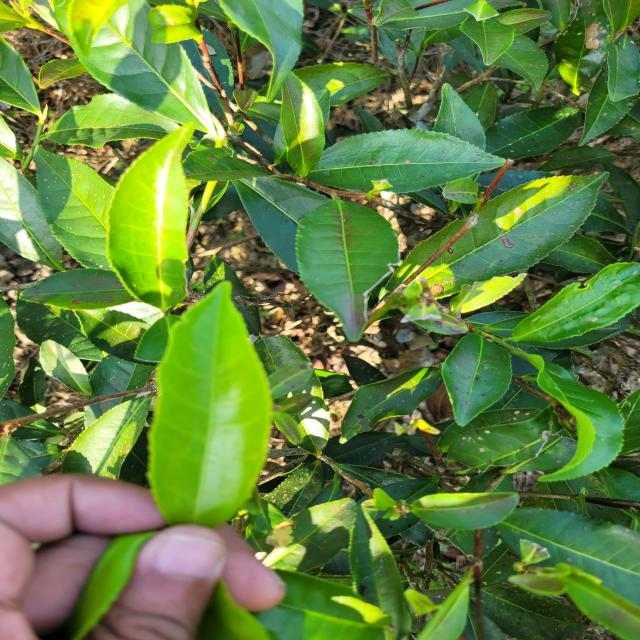Category B(2-4 days): (123, 267, 291, 566)
